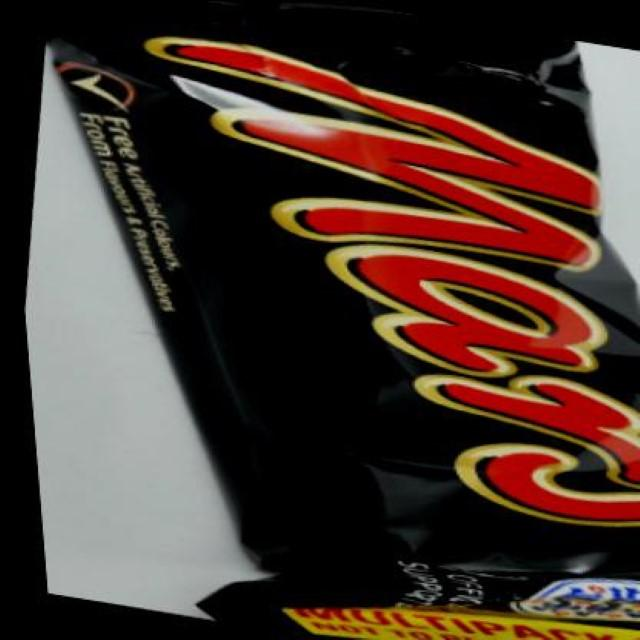mars_chocolate: (106, 30, 640, 625)
